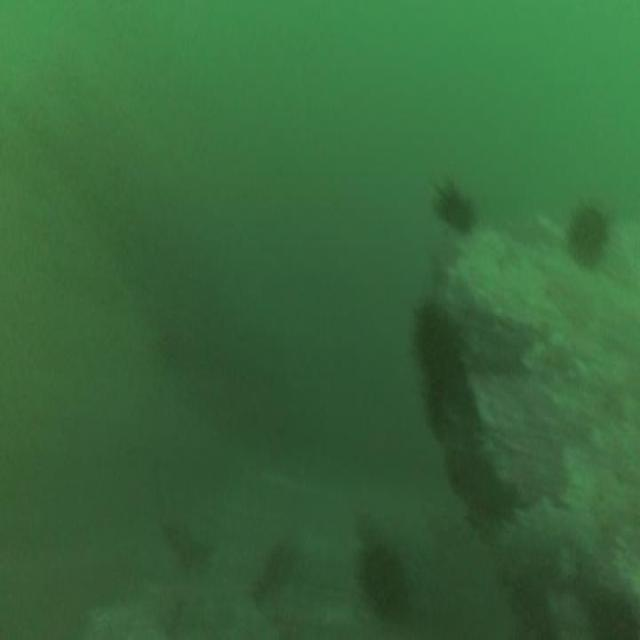echinus: (362, 545, 402, 607), (568, 210, 604, 266), (412, 306, 440, 358), (438, 188, 468, 229)
